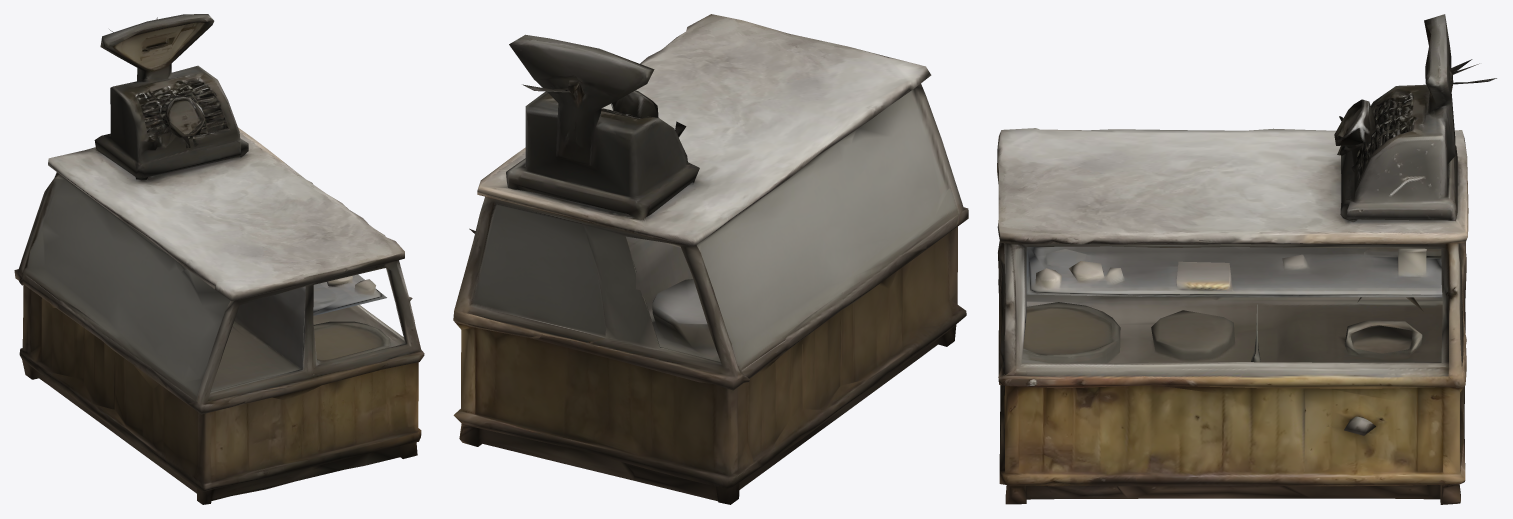
The model's file is kh_counter.glb.
3 views of the same model, side by side, from view 1: azimuth 30°, elevation 25°; view 2: azimuth 150°, elevation 25°; view 3: azimuth 270°, elevation 25° (orthographic). The views are drawn at different scales.
Parts seen in each view (by area): view 1: tripo_node_09ae6f74-54ad-472e-a11a-71ea23169518; view 2: tripo_node_09ae6f74-54ad-472e-a11a-71ea23169518; view 3: tripo_node_09ae6f74-54ad-472e-a11a-71ea23169518.
Boxes of the visible parts, x1=… form: tripo_node_09ae6f74-54ad-472e-a11a-71ea23169518: x1=14, y1=14, x2=424, y2=504; tripo_node_09ae6f74-54ad-472e-a11a-71ea23169518: x1=453, y1=14, x2=968, y2=504; tripo_node_09ae6f74-54ad-472e-a11a-71ea23169518: x1=997, y1=14, x2=1496, y2=504.
Bounding box in the file's own units: 0.6824 × 0.9022 × 1.
Materials: 1 (1 with a texture image).
